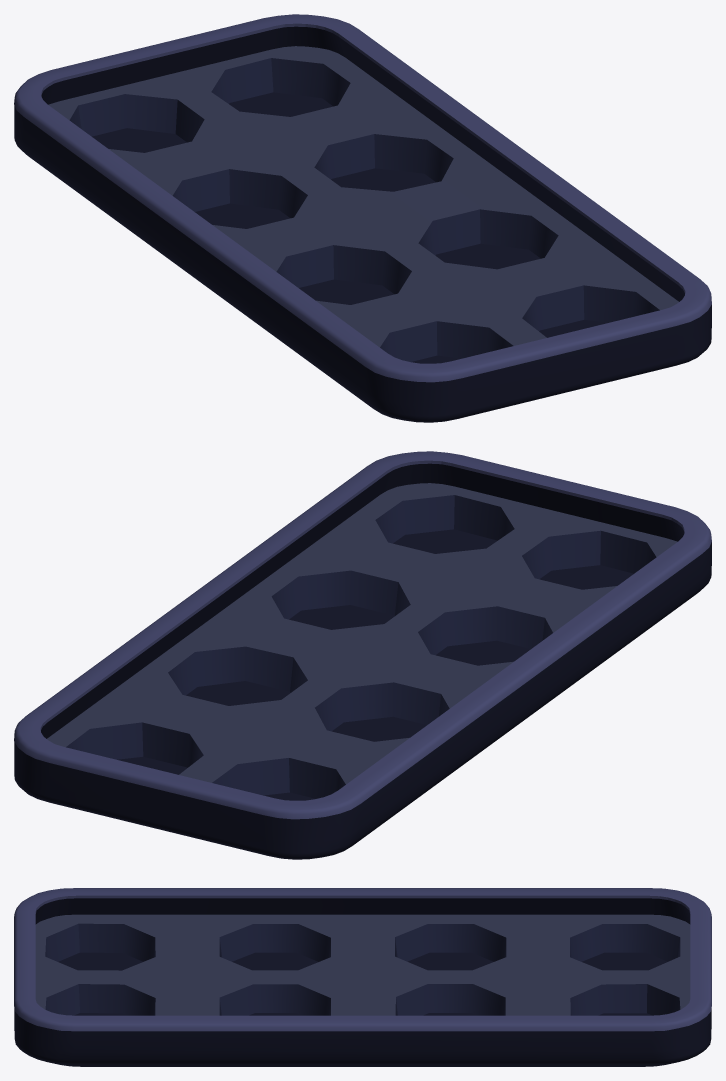
The model's file is Tray_B.fbx.
3 views of the same model, one above another, from view 1: azimuth 30°, elevation 25°; view 2: azimuth 150°, elevation 25°; view 3: azimuth 270°, elevation 25° (orthographic). The views are drawn at different scales.
Visible parts, largest first — view 1: Tray_02_B, Tray_00_B, Tray_03_B, Tray_01_B, Tray_04_B; view 2: Tray_02_B, Tray_00_B, Tray_03_B, Tray_01_B, Tray_04_B; view 3: Tray_02_B, Tray_00_B, Tray_03_B, Tray_01_B, Tray_04_B.
Part boxes in pixels (x1,y1,x2,y2): Tray_02_B: (48, 46, 678, 347); Tray_00_B: (14, 26, 711, 422); Tray_03_B: (69, 58, 659, 361); Tray_01_B: (14, 14, 711, 382); Tray_04_B: (92, 92, 608, 363); Tray_02_B: (47, 483, 677, 784); Tray_00_B: (14, 463, 711, 859); Tray_03_B: (66, 495, 656, 798); Tray_01_B: (14, 451, 711, 819); Tray_04_B: (117, 529, 633, 800); Tray_02_B: (35, 914, 690, 1015); Tray_00_B: (14, 898, 711, 1066); Tray_03_B: (45, 923, 680, 1015); Tray_01_B: (14, 888, 711, 1031); Tray_04_B: (58, 952, 667, 1015).
Bounding box in the file's own units: 518 × 85.25 × 1099.
